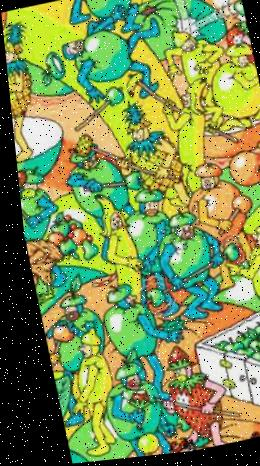waldo: (158, 440, 184, 456)
